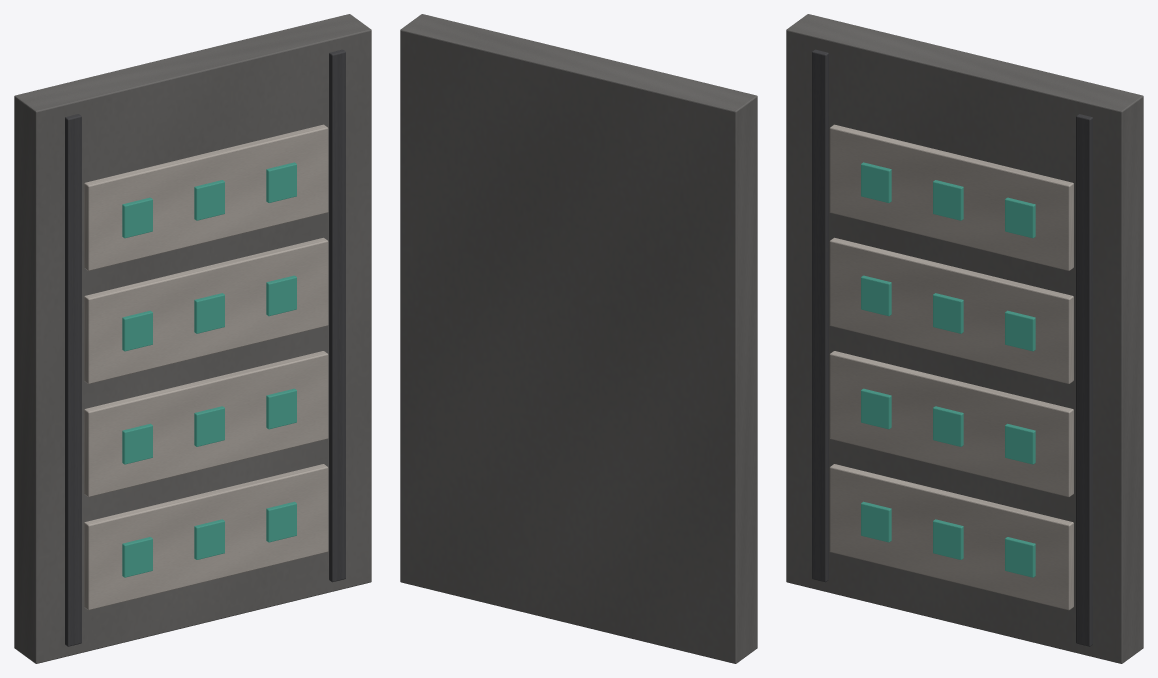
Rendered from service_wall_panel.glb.
The picture shows the model from 3 angles, left to right: view 1: azimuth 30°, elevation 25°; view 2: azimuth 150°, elevation 25°; view 3: azimuth 330°, elevation 25°; orthographic projection.
Parts seen in each view (by area): view 1: panel.003, MESH_MAT_Painted_Ivory.189, MESH_MAT_Dark_Metal.237, MESH_MAT_Screen_Replaceable.051; view 2: panel.003; view 3: panel.003, MESH_MAT_Painted_Ivory.189, MESH_MAT_Dark_Metal.237, MESH_MAT_Screen_Replaceable.051.
Part boxes in pixels (box(x1,y1,x2,y2)): panel.003: box(14, 14, 371, 663); MESH_MAT_Painted_Ivory.189: box(84, 124, 328, 610); MESH_MAT_Dark_Metal.237: box(65, 49, 345, 646); MESH_MAT_Screen_Replaceable.051: box(122, 162, 296, 577); panel.003: box(400, 14, 757, 663); panel.003: box(786, 14, 1143, 663); MESH_MAT_Painted_Ivory.189: box(829, 124, 1073, 610); MESH_MAT_Dark_Metal.237: box(812, 49, 1092, 646); MESH_MAT_Screen_Replaceable.051: box(861, 162, 1035, 577).
Bounding box in the file's own units: 1.4 × 2.2 × 0.21.
4 materials, 3 textured.
